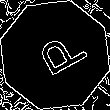P_SW: (24, 27, 86, 83)
